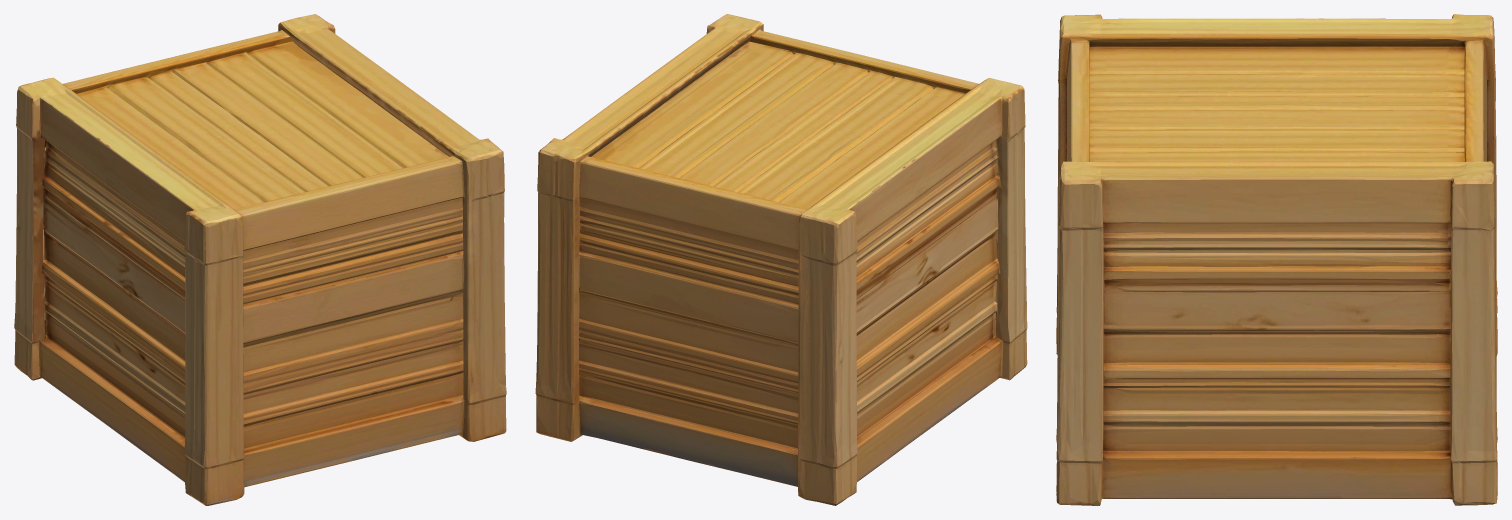
The model's file is wooden_box.glb.
3 renders of one model, left to right at view 1: azimuth 30°, elevation 25°; view 2: azimuth 150°, elevation 25°; view 3: azimuth 270°, elevation 25°, orthographic. The views are drawn at different scales.
Size of the model in its own units: 1.81 by 1.6 by 1.97.
1 material, 1 textured.
